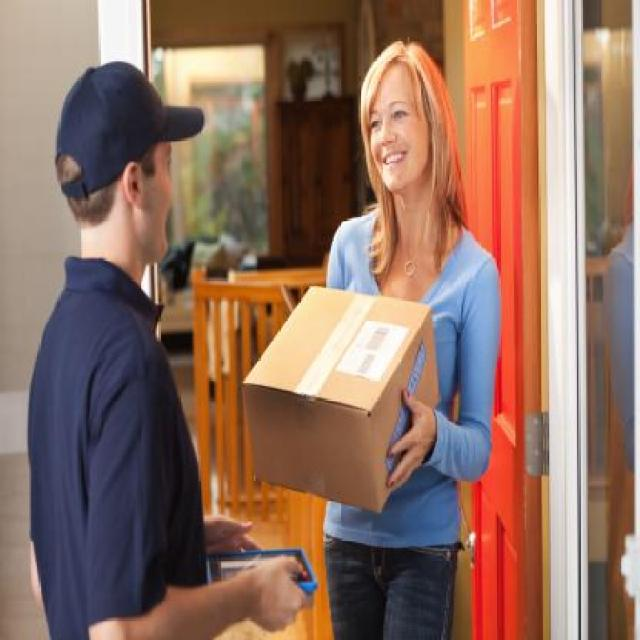cardboxes: (240, 282, 443, 520)
